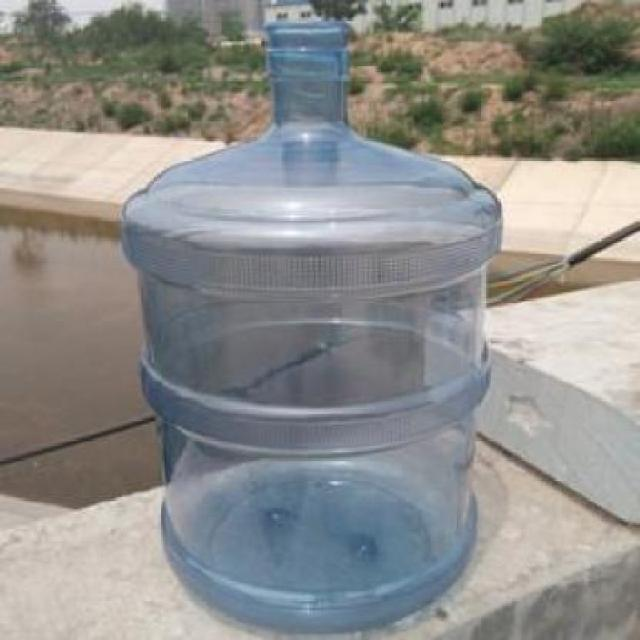coolerbottle: (117, 12, 507, 640)
